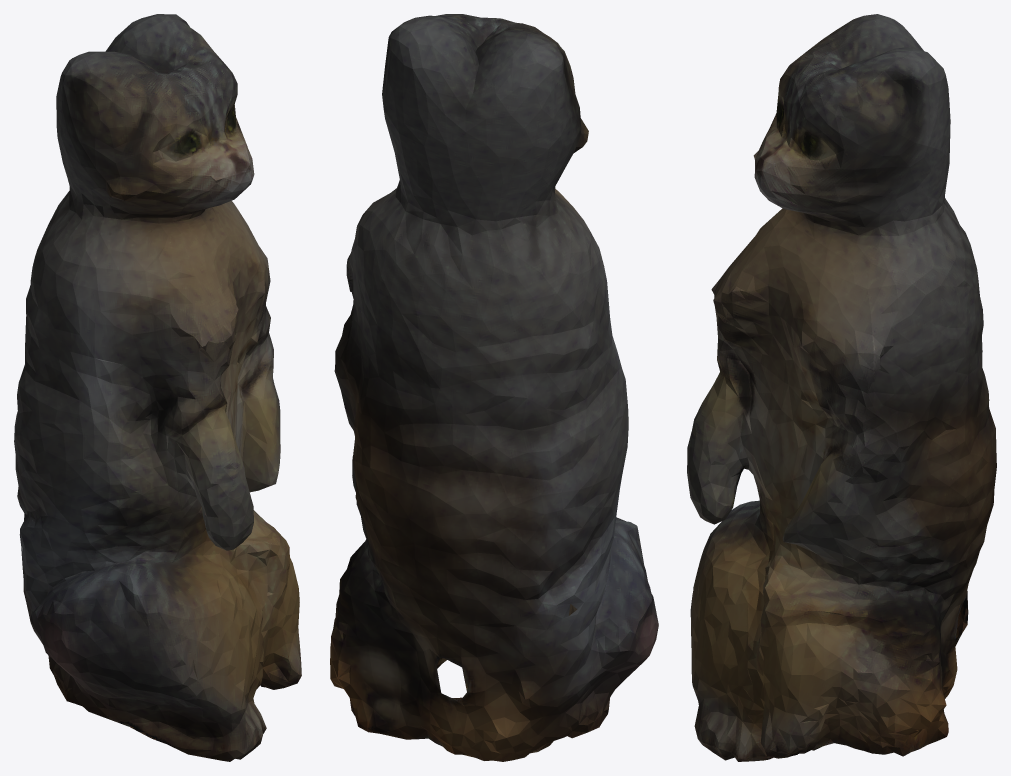
Rendered from cat.glb.
3 views of the same model, side by side, from view 1: azimuth 30°, elevation 25°; view 2: azimuth 150°, elevation 25°; view 3: azimuth 270°, elevation 25° (orthographic). The views are drawn at different scales.
Parts seen in each view (by area): view 1: world; view 2: world; view 3: world.
Boxes of the visible parts, box(x1,y1,x2,y2) form: world: box(14, 14, 301, 761); world: box(330, 14, 658, 761); world: box(687, 14, 996, 761).
Bounding box in the file's own units: 0.2641 × 0.679 × 0.272.
1 material, 1 textured.
